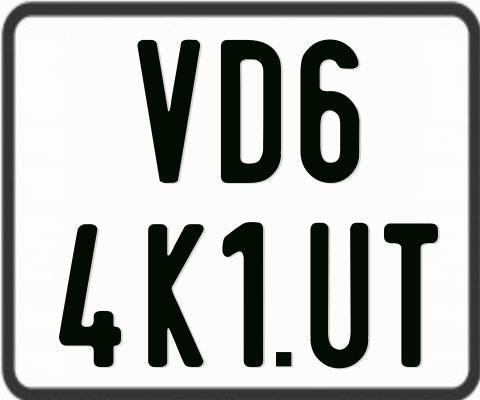1: (221, 219, 268, 364)
4: (58, 224, 124, 370)
6: (298, 38, 363, 182)
D: (218, 39, 284, 183)
K: (147, 222, 203, 368)
T: (382, 223, 438, 368)
U: (307, 220, 366, 366)
V: (136, 37, 201, 185)
